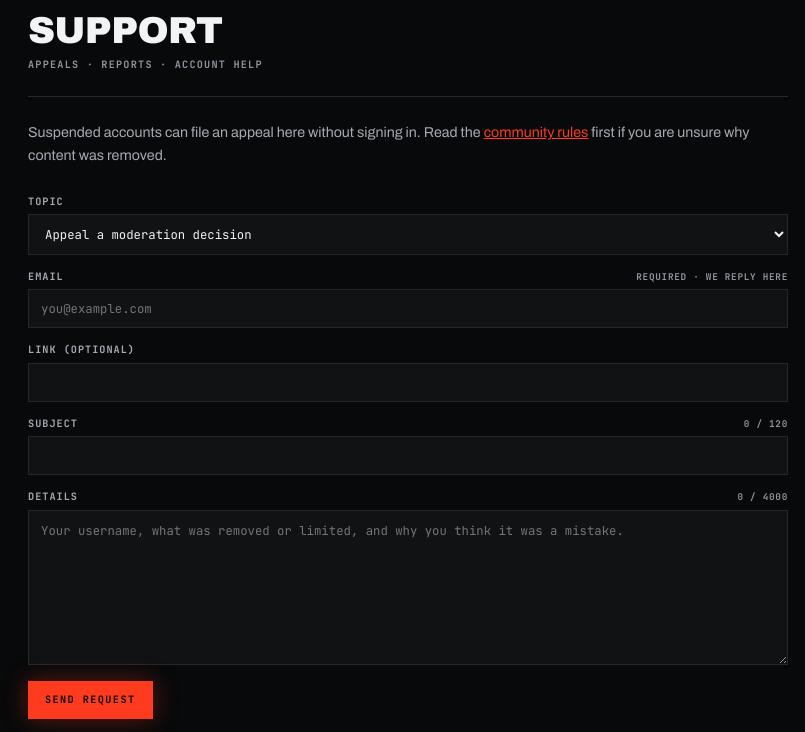
SupportPage › submits a signed-out appeal and shows the request id
In the field labelled "EMAIL": point(408, 309) [28,289,788,328], type "me@example.com"
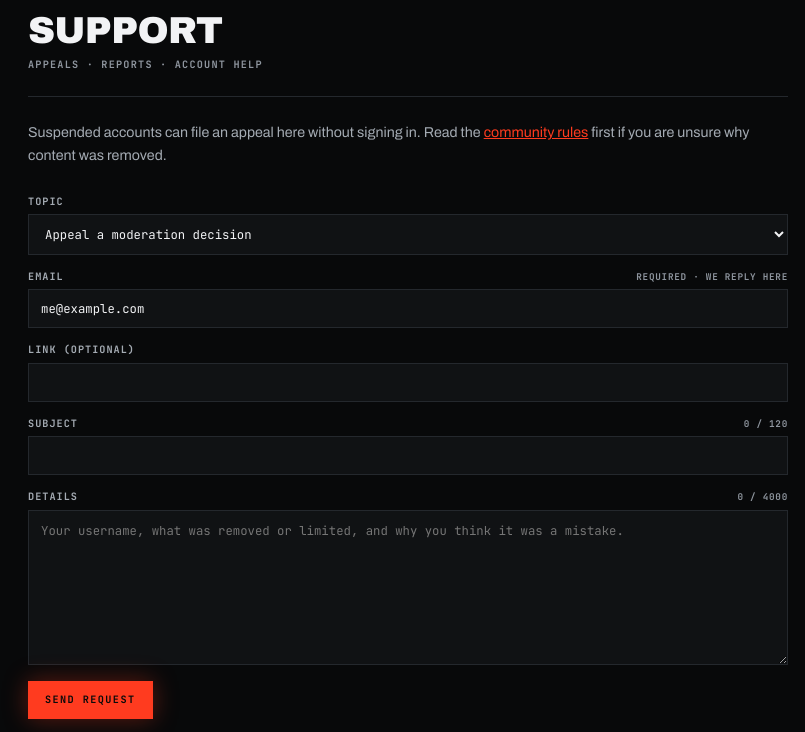
In the field labelled "SUBJECT": point(408, 456) [28,436,788,475], type "Suspended by mistake"
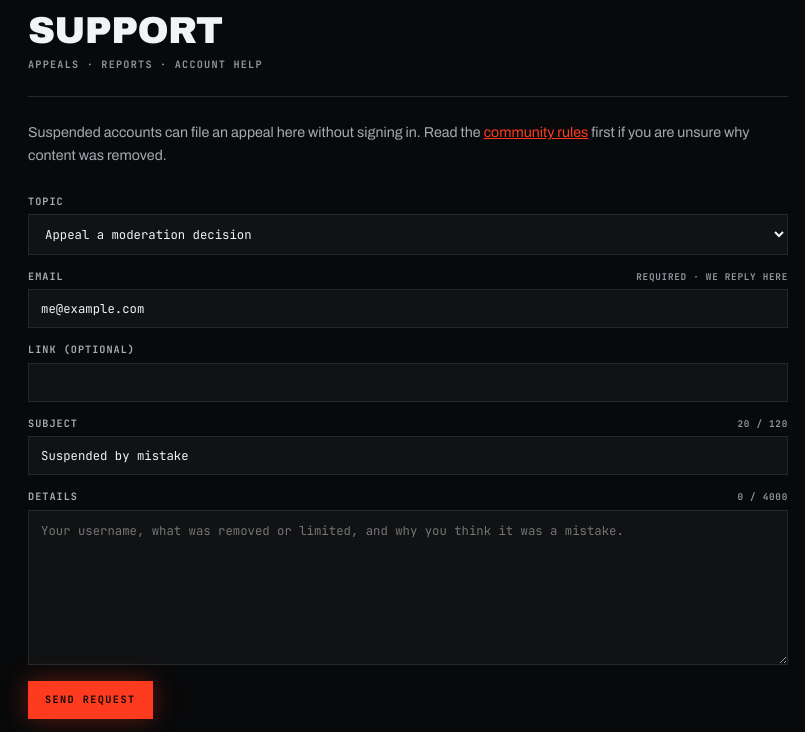
Replace the text in the text box labelled "DETAILS" with "Please review my suspension.": point(408, 587) [28,510,788,665]
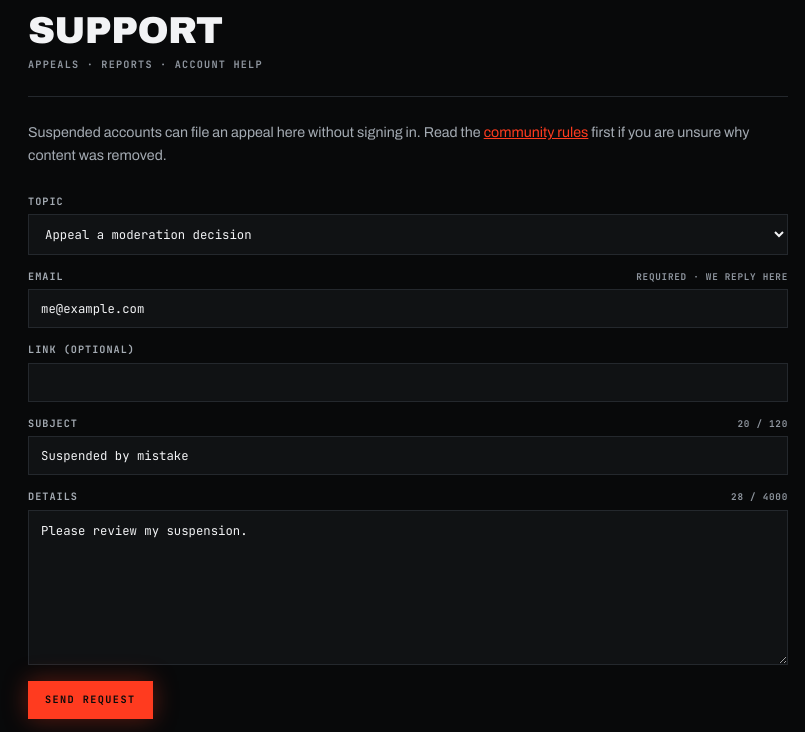
Click the button "SEND REQUEST": point(90, 700) [28,681,152,719]
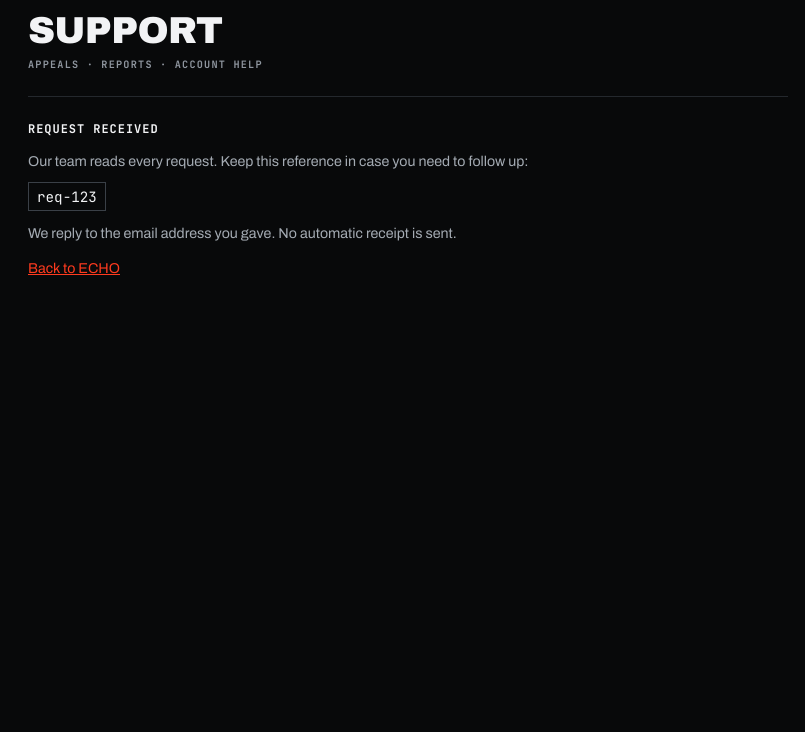
Now the text with test id "support-request-id" reads "req-123", box [37,187,97,206]
